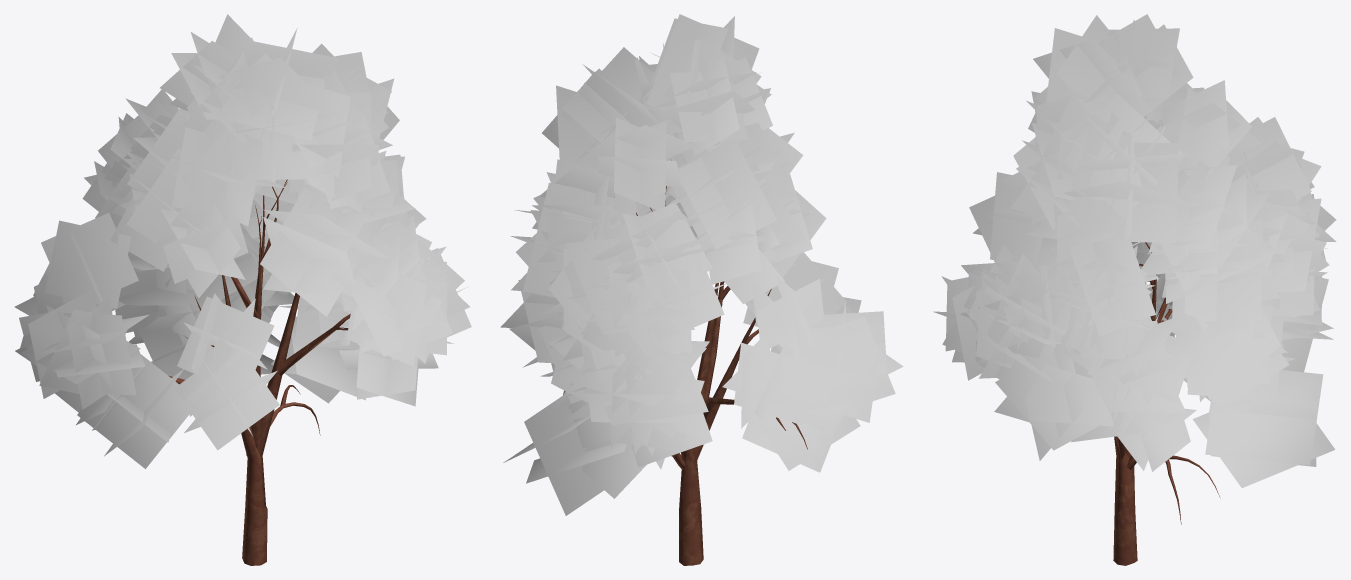
Rendered from S_Tree_A_LOD_2.fbx.
3 views of the same model, side by side, from view 1: azimuth 30°, elevation 25°; view 2: azimuth 150°, elevation 25°; view 3: azimuth 270°, elevation 25° (orthographic).
Parts seen in each view (by area): view 1: S_Tree_A_LOD2; view 2: S_Tree_A_LOD2; view 3: S_Tree_A_LOD2.
Boxes of the visible parts, box(x1,y1,x2,y2) form: S_Tree_A_LOD2: box(14, 14, 471, 565); S_Tree_A_LOD2: box(500, 14, 903, 565); S_Tree_A_LOD2: box(933, 14, 1336, 565).
Size of the model in its own units: 521 by 742 by 504.
